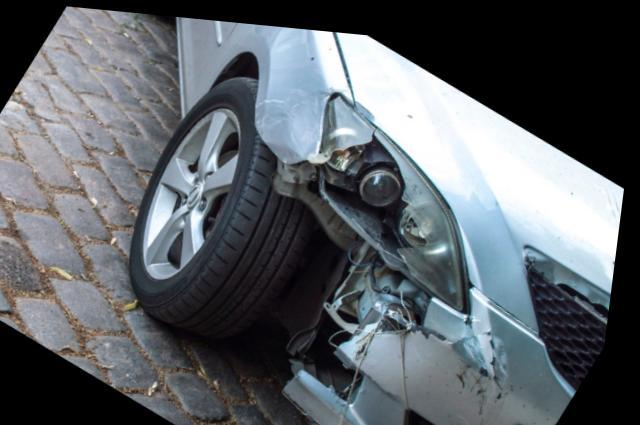lamp broken: (323, 85, 473, 302)
no part: (200, 148, 432, 391)
scratch: (456, 320, 526, 420), (256, 81, 332, 155)
